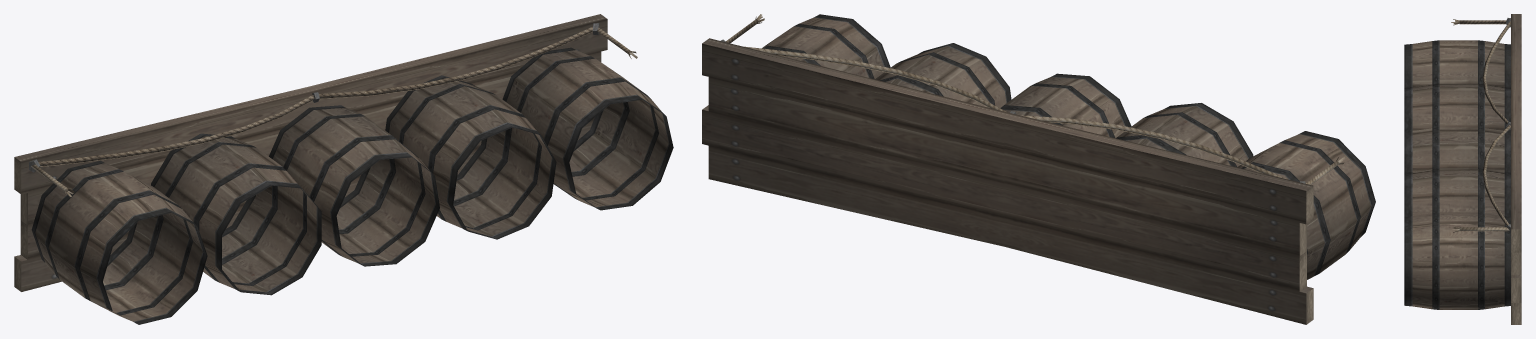
File: Bar_A.fbx
3 views of the same model, side by side, from view 1: azimuth 30°, elevation 25°; view 2: azimuth 150°, elevation 25°; view 3: azimuth 270°, elevation 25° (orthographic). The views are drawn at different scales.
Visible parts, largest first — view 1: Bar_A; view 2: Bar_A; view 3: Bar_A.
Boxes of the visible parts, x1,y1,x2,y2 form: Bar_A: (14,14,673,324); Bar_A: (702,14,1375,324); Bar_A: (1404,14,1521,324).
Size of the model in its own units: 5.13 by 1.09 by 1.18.
